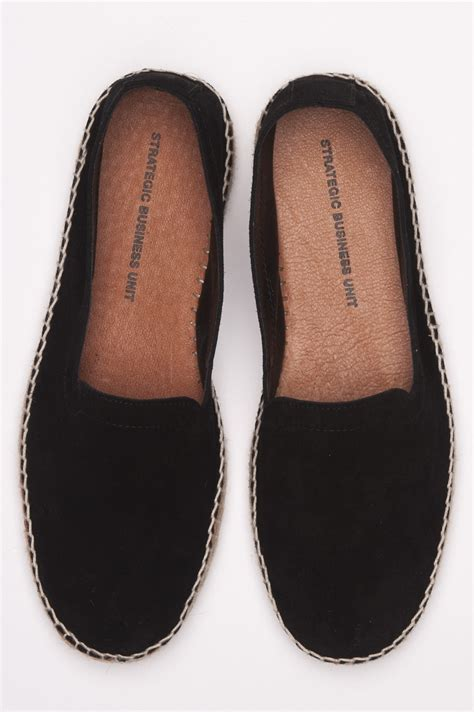gamuza: (30, 70, 451, 661)
